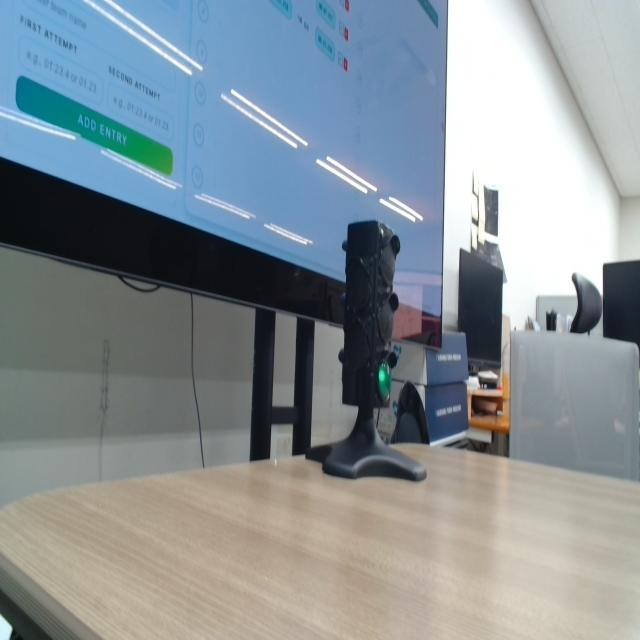green_light: (378, 363, 391, 401)
